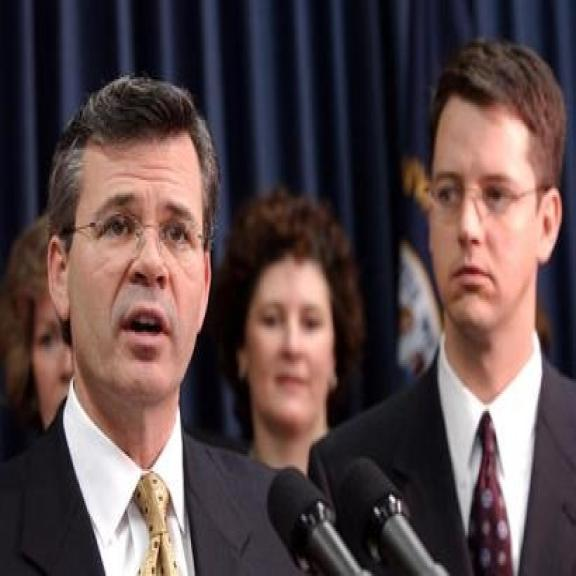face: (46, 133, 215, 389), (426, 90, 565, 334), (239, 254, 344, 429), (22, 282, 76, 426)
